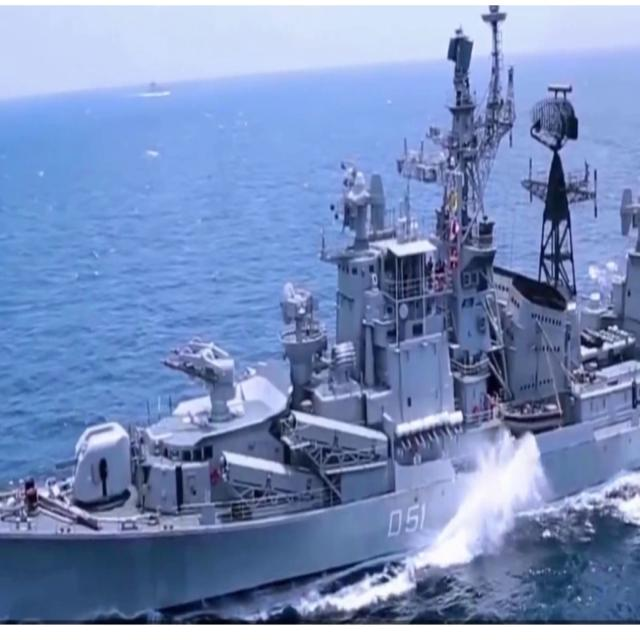OCR: (379, 498, 426, 549)
